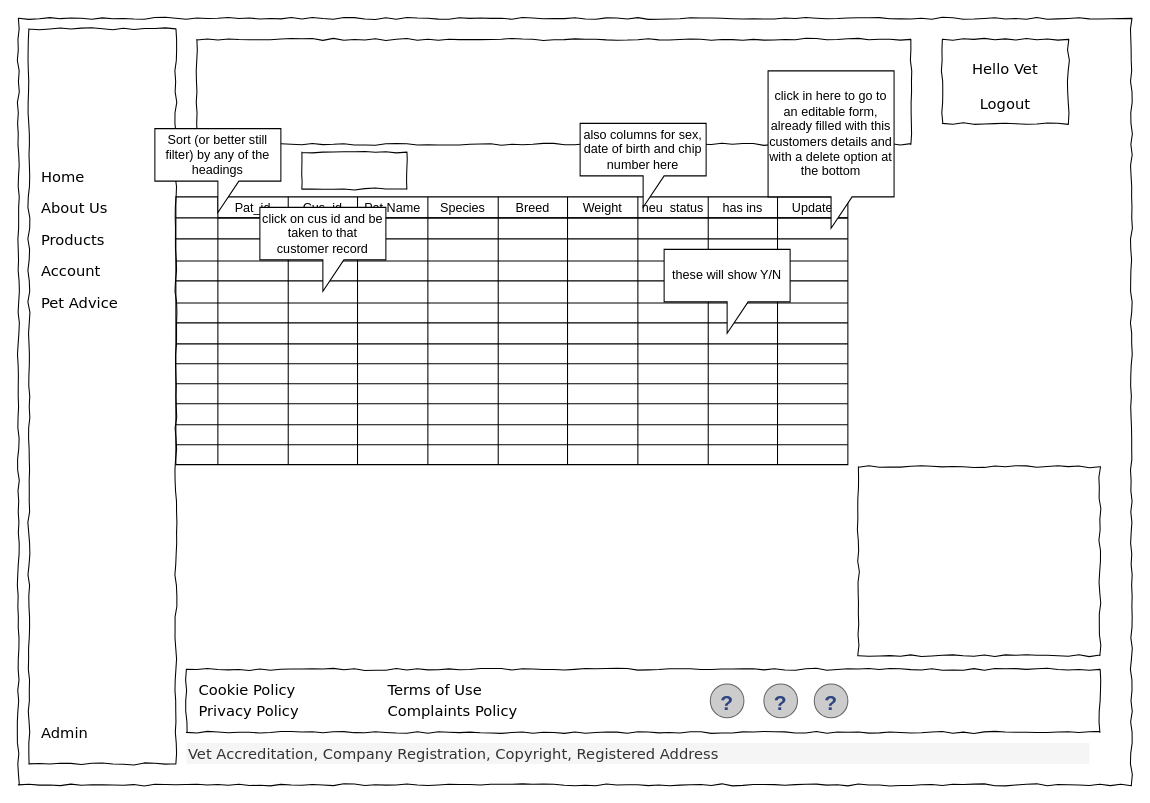
Some shapes in this 1150 by 803 pixel diagram are drawn without their labels. Here are the shapes that lost their labels. From the top down, the centre of each, then its label:
At point (553, 91): "Vet Clinic Name".
At point (354, 170): "Patients".
At point (978, 561): "Opening Hours Phone Number Map".
